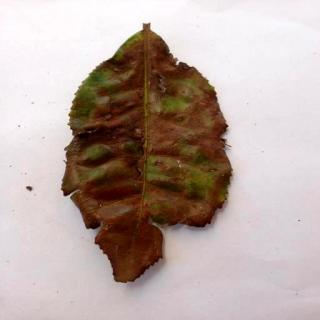Algal Leaf: (66, 23, 234, 285)
